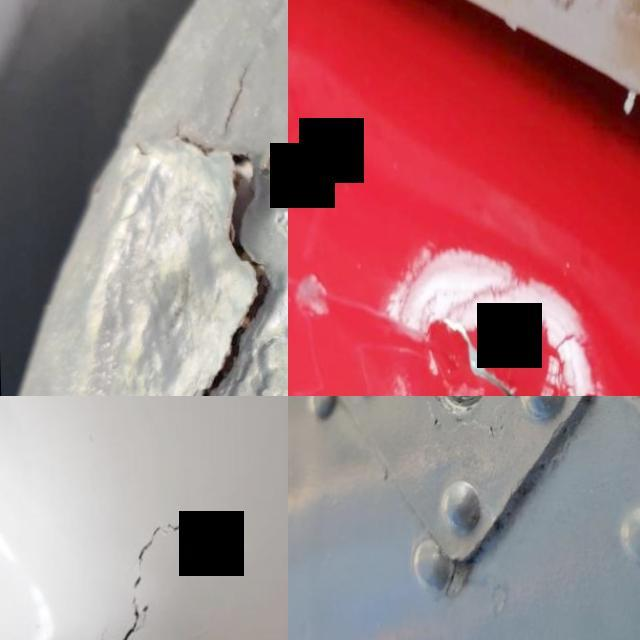Crack: (39, 113, 288, 396), (339, 279, 640, 396), (94, 518, 257, 640)
Missing_Fastener: (376, 396, 537, 450)
